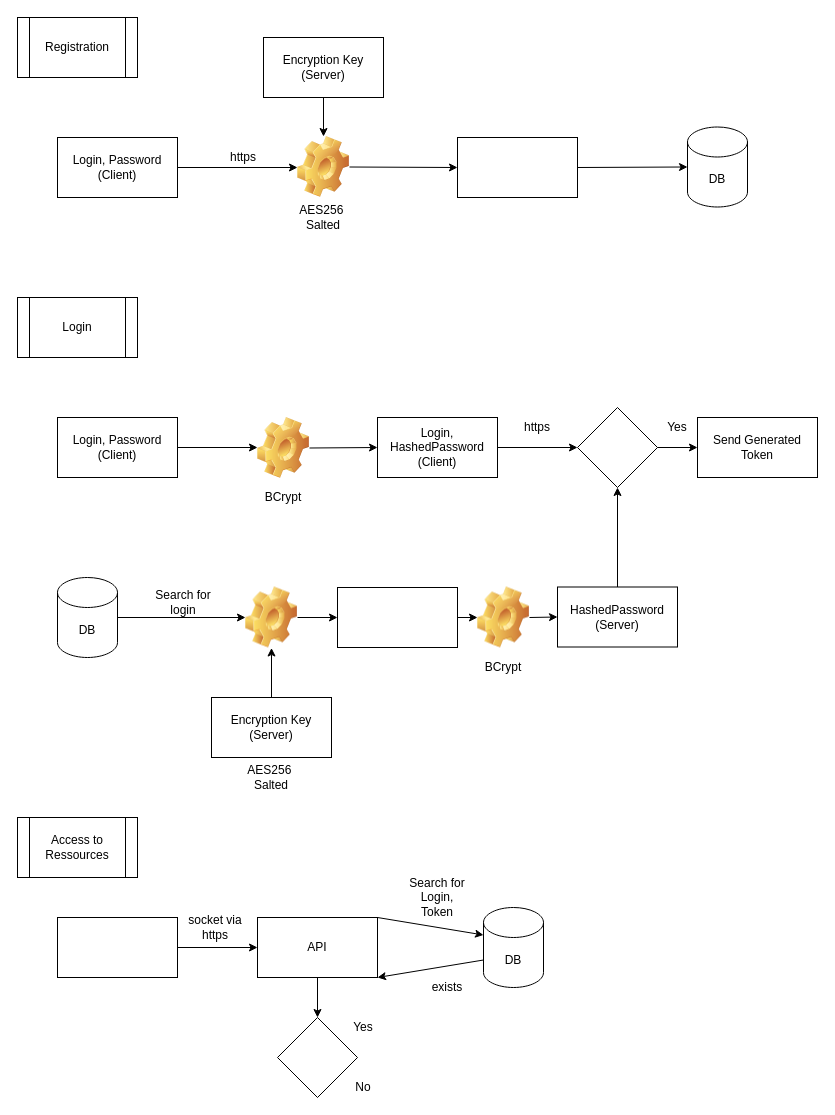
This 835x1115 diagram has some shape labels left out. The centre of each missing label's shape, as x and y in pixels:
exists ?: (x=317, y=1057)
Login, EncryptedPassword, Token: (x=517, y=167)
Login, Token: (x=117, y=947)
match ?: (x=617, y=447)
Password (Server): (x=397, y=617)
